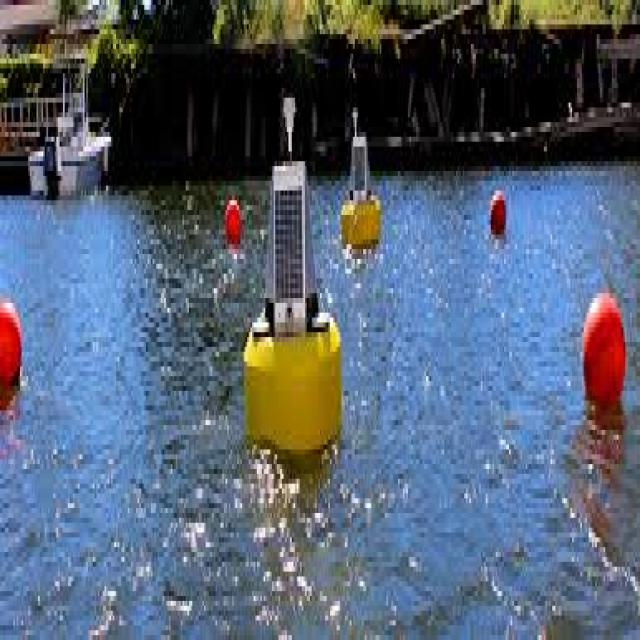buoy: (242, 56, 343, 463), (347, 72, 383, 268)
